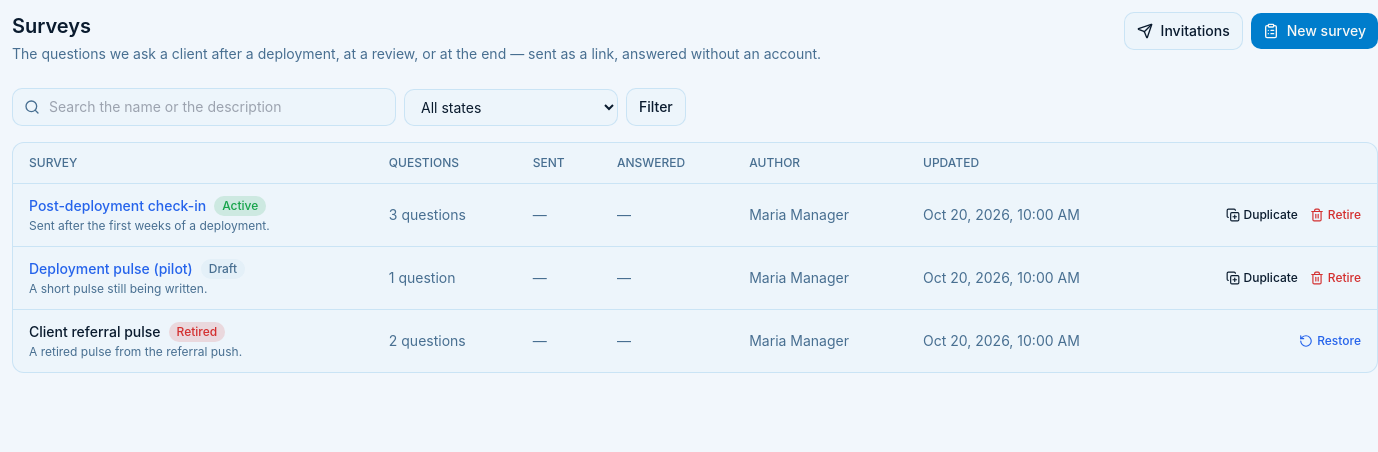
Test: Survey library › duplicates a survey into a draft and names the copy
Click the button "Duplicate" in the row of "Post-deployment check-in" at (1262, 215), box 1226,207 -> 1298,223
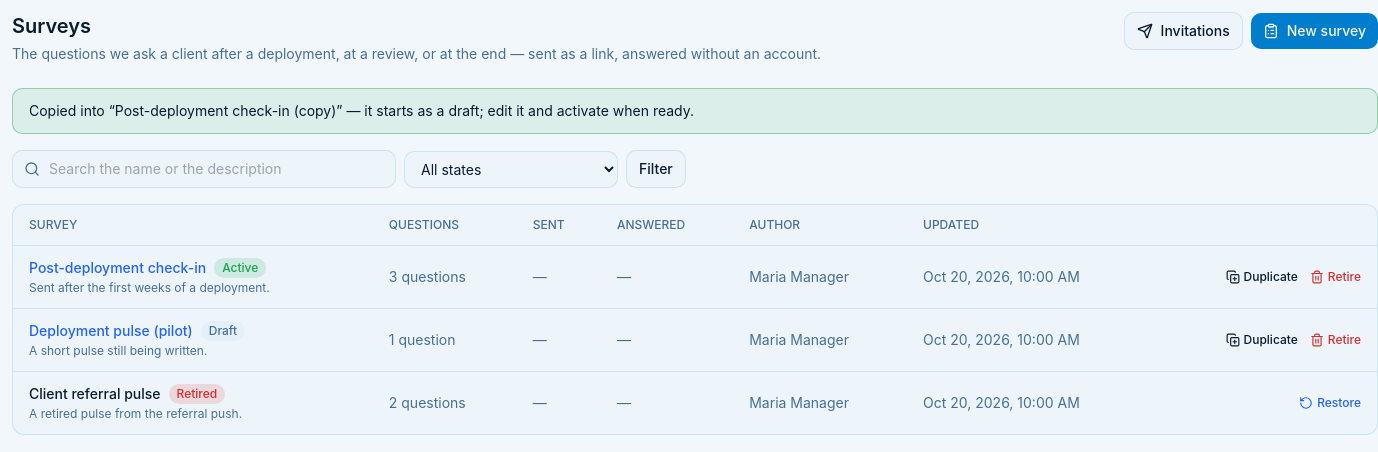
Check: the text "Copied into “Post-deployment check-in (copy)”" is shown, box 29,102 -> 694,119
